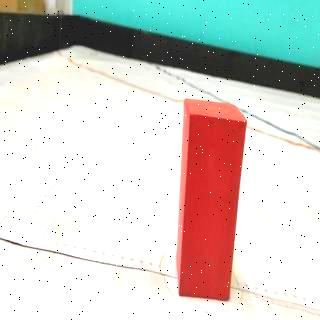redbox: (176, 97, 249, 300)
